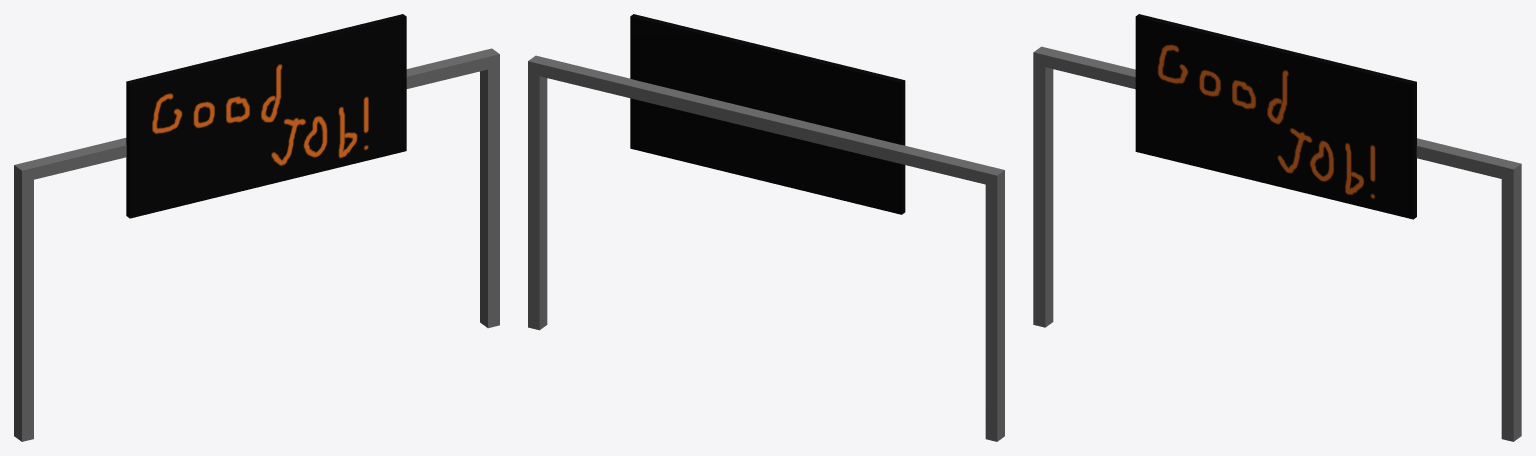
The model's file is bigsign.dae.
3 views of the same model, side by side, from view 1: azimuth 30°, elevation 25°; view 2: azimuth 150°, elevation 25°; view 3: azimuth 330°, elevation 25° (orthographic). The views are drawn at different scales.
Visible parts, largest first — view 1: Cube; view 2: Cube; view 3: Cube.
Part boxes in pixels (bbox=[...]): Cube: bbox=[14, 14, 499, 441]; Cube: bbox=[528, 14, 1004, 441]; Cube: bbox=[1033, 14, 1521, 441].
Size of the model in its own units: 7.43 by 0.2983 by 4.97.
1 material, 1 textured.
